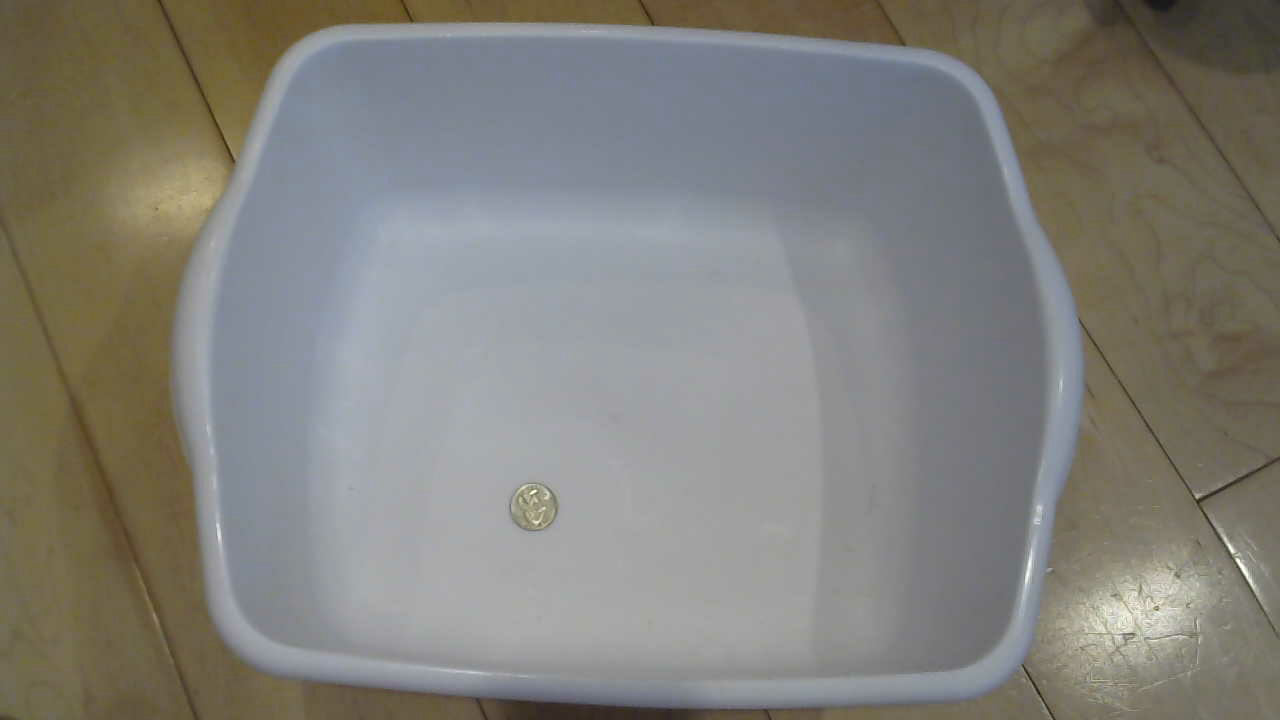coin: (507, 484, 572, 543)
